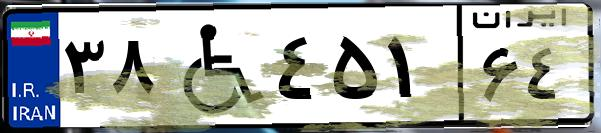1: (385, 28, 445, 110)
3: (57, 26, 110, 100)
4: (270, 28, 330, 110), (525, 38, 570, 115)
5: (330, 28, 385, 110)
6: (475, 38, 525, 113)
8: (110, 28, 158, 98)
ژ (معلولین و جانبازان): (158, 12, 270, 120)
